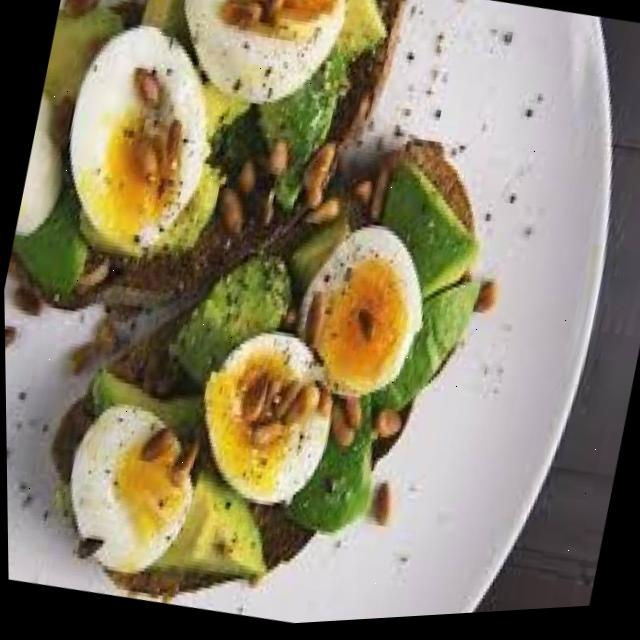Wet: (0, 0, 580, 640), (11, 0, 357, 290), (179, 192, 456, 547)
